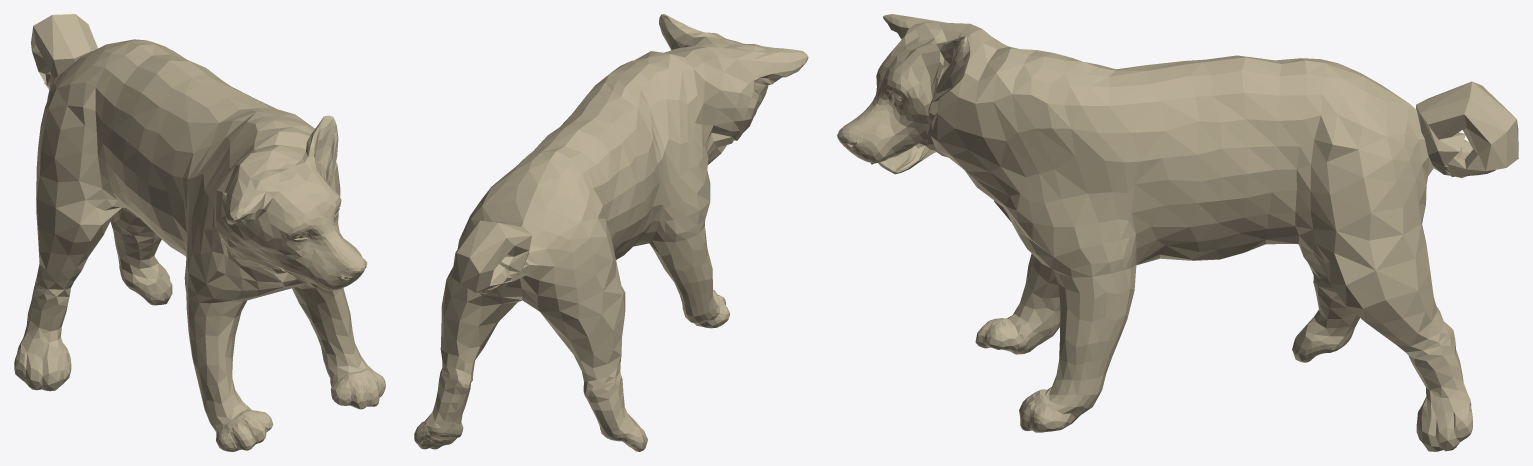
3 views of the same model, side by side, from view 1: azimuth 30°, elevation 25°; view 2: azimuth 150°, elevation 25°; view 3: azimuth 270°, elevation 25° (orthographic). The views are drawn at different scales.
Visible parts, largest first — view 1: world; view 2: world; view 3: world.
Part boxes in pixels (x1,y1,x2,y2): world: (14, 14, 385, 451); world: (414, 14, 808, 451); world: (837, 14, 1518, 451).
Bounding box in the file's own units: 0.5401 × 0.7855 × 1.25.
